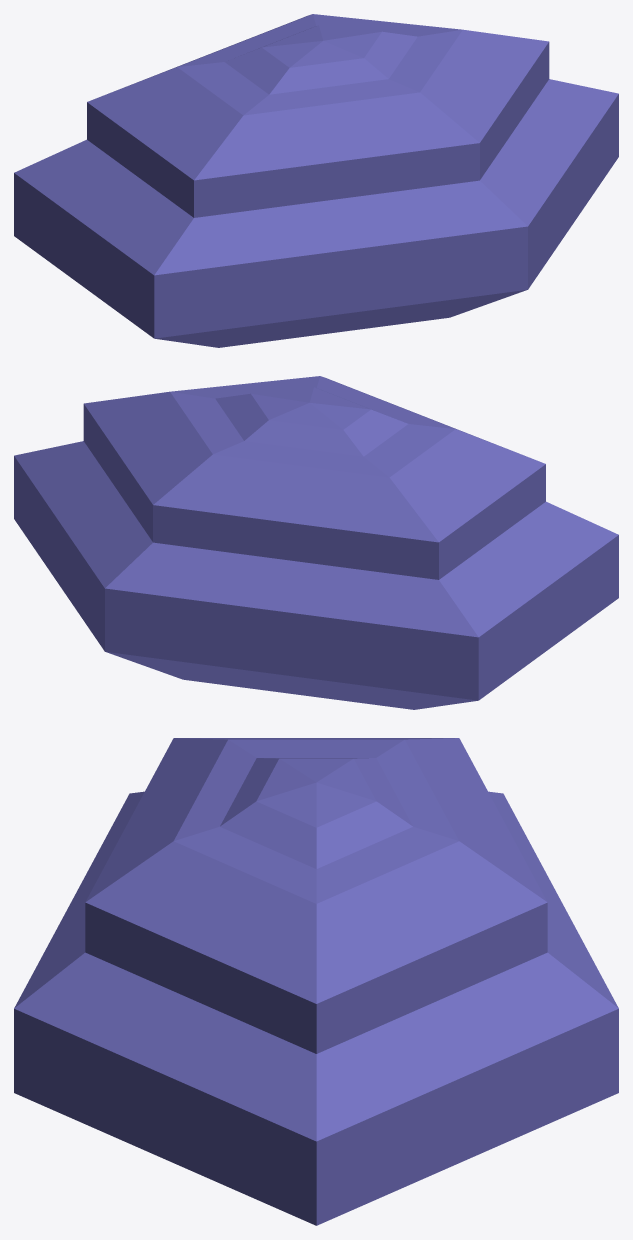
File: magical_bush_lightpurple.fbx
The picture shows the model from 3 angles, top to bottom: view 1: azimuth 30°, elevation 25°; view 2: azimuth 150°, elevation 25°; view 3: azimuth 270°, elevation 25°; orthographic projection. The views are drawn at different scales.
Visible parts, largest first — view 1: pSphere1, pSphere3, pSphere4; view 2: pSphere1, pSphere3, pSphere4; view 3: pSphere1, pSphere3, pSphere4.
Boxes of the visible parts, bbox=[...] form: pSphere1: bbox=[14, 79, 618, 347]; pSphere3: bbox=[87, 14, 549, 217]; pSphere4: bbox=[225, 25, 417, 94]; pSphere1: bbox=[14, 441, 618, 709]; pSphere3: bbox=[83, 376, 545, 579]; pSphere4: bbox=[215, 387, 407, 456]; pSphere1: bbox=[14, 791, 618, 1225]; pSphere3: bbox=[85, 738, 547, 1053]; pSphere4: bbox=[220, 758, 412, 868].
Bounding box in the file's own units: 7.71 × 3.3 × 5.66.
